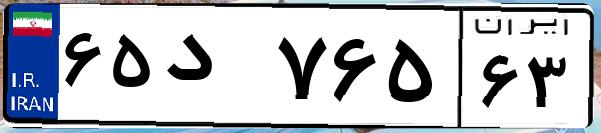3: (525, 38, 570, 115)
5: (385, 28, 445, 110), (110, 28, 158, 98)
6: (330, 28, 385, 110), (57, 26, 110, 100), (475, 38, 525, 113)
7: (270, 28, 330, 110)
د: (158, 20, 270, 120)
